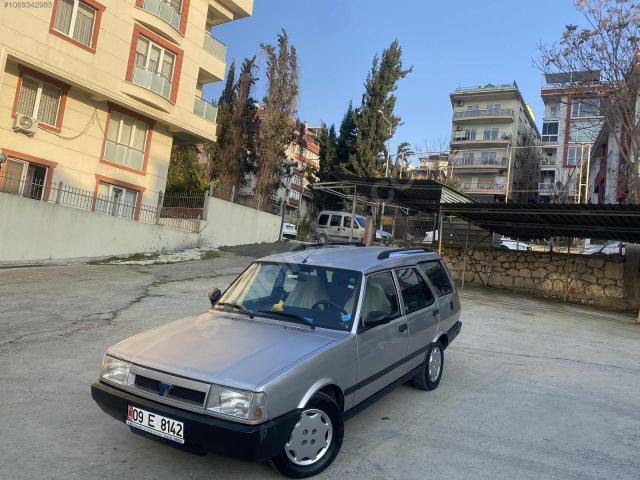plaka: (126, 407, 184, 443)
